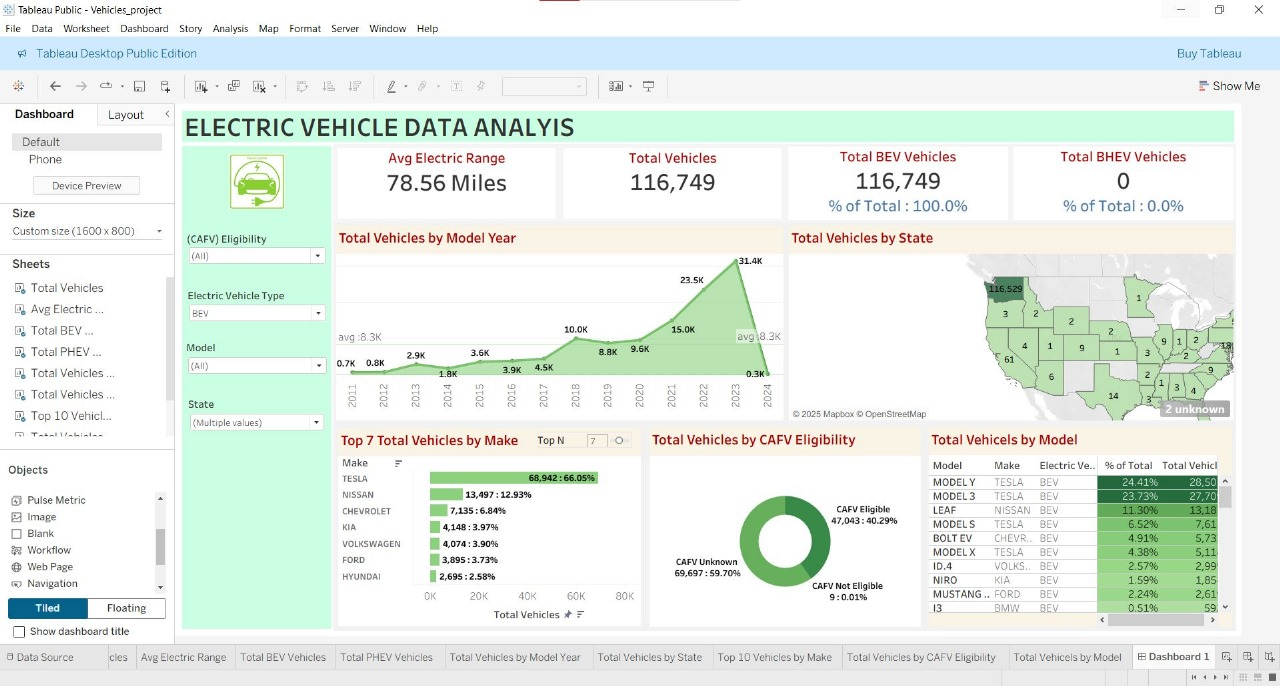

Layout of this report page (visuals, bound fields, positions):
{"tool":"tableau","page":{"name":"Dashboard 1","canvas":[1600,800],"ordinal":0},"visuals":[{"type":"title","box":[8,8,1584,53]},{"type":"text","box":[8,61,229.9,731]},{"type":"worksheet","title":"Avg Electric Range","mark":"Automatic","box":[238,61,339,118]},{"type":"worksheet","title":"Total Vehicles","mark":"Automatic","box":[577,61,339,118]},{"type":"worksheet","title":"Total BEV Vehicles","mark":"Automatic","box":[916,61,338,118]},{"type":"worksheet","title":"Total PHEV Vehicles ","mark":"Automatic","box":[1254,61,338,118]},{"type":"image","param":"C:/Users/HP/Downloads/01. tableau project/electric-vehicle-charging-station-elec","box":[13,74.7,220,84.4]},{"type":"worksheet","title":"Total Vehicles by Model Year","mark":"Area","rows":["Calculation_505810534593622016","Calculation_505810534593622016"],"cols":["Model Year"],"box":[237.9,179,679,301]},{"type":"worksheet","title":"Total Vehicles by State","mark":"Multipolygon","box":[916.9,179,675.1,301]},{"type":"filter","title":"Total Vehicles by Model Year","param":"[federated.0u2u43s1l7eksx1989gpu1sy49me].[none:Clean Alternative Fuel Vehicle (C","box":[18,192.9,211,48.9]},{"type":"filter","title":"Total Vehicles by State","param":"[federated.0u2u43s1l7eksx1989gpu1sy49me].[none:Electric Vehicle Type:nk]","box":[19,278.2,211,52.4]},{"type":"filter","title":"Total Vehicles by State","param":"[federated.0u2u43s1l7eksx1989gpu1sy49me].[none:Model:nk]","box":[17,355.6,214,55.1]},{"type":"filter","title":"Total Vehicles by State","param":"[federated.0u2u43s1l7eksx1989gpu1sy49me].[none:State:nk]","box":[20,440.9,207,55.1]},{"type":"worksheet","title":"Top 10 Vehicles by Make","mark":"Automatic","rows":["Make"],"cols":["Calculation_505810534593622016"],"box":[237.9,480,468,312]},{"type":"worksheet","title":"Total Vehicles by CAFV Eligibility","mark":"Pie","rows":["Calculation_94857069114580993","Calculation_94857069114785795"],"box":[705.9,480,419.1,312]},{"type":"worksheet","title":"Total Vehicels by Model","mark":"Square","rows":["Model","Make","Electric Vehicle Type"],"box":[1125,480,467,312]},{"type":"parameter","param":"[Parameters].[Parameter 1]","box":[543,493.3,143,24]}]}

Visuals, with their boxes on the page's 1600x800 design canvas (x1, y1, x2, y2). These are canvas units, not pixel positions in the 1280x686 screenshot, which may show the page scaled, cropped or inside an application window:
title: left=8, top=8, right=1592, bottom=61
text: left=8, top=61, right=238, bottom=792
"Avg Electric Range" worksheet: left=238, top=61, right=577, bottom=179
"Total Vehicles" worksheet: left=577, top=61, right=916, bottom=179
"Total BEV Vehicles" worksheet: left=916, top=61, right=1254, bottom=179
"Total PHEV Vehicles " worksheet: left=1254, top=61, right=1592, bottom=179
image: left=13, top=75, right=233, bottom=159
"Total Vehicles by Model Year" worksheet (Area marks): left=238, top=179, right=917, bottom=480
"Total Vehicles by State" worksheet (Multipolygon marks): left=917, top=179, right=1592, bottom=480
"Total Vehicles by Model Year" filter: left=18, top=193, right=229, bottom=242
"Total Vehicles by State" filter: left=19, top=278, right=230, bottom=331
"Total Vehicles by State" filter: left=17, top=356, right=231, bottom=411
"Total Vehicles by State" filter: left=20, top=441, right=227, bottom=496
"Top 10 Vehicles by Make" worksheet: left=238, top=480, right=706, bottom=792
"Total Vehicles by CAFV Eligibility" worksheet (Pie marks): left=706, top=480, right=1125, bottom=792
"Total Vehicels by Model" worksheet (Square marks): left=1125, top=480, right=1592, bottom=792
parameter: left=543, top=493, right=686, bottom=517
